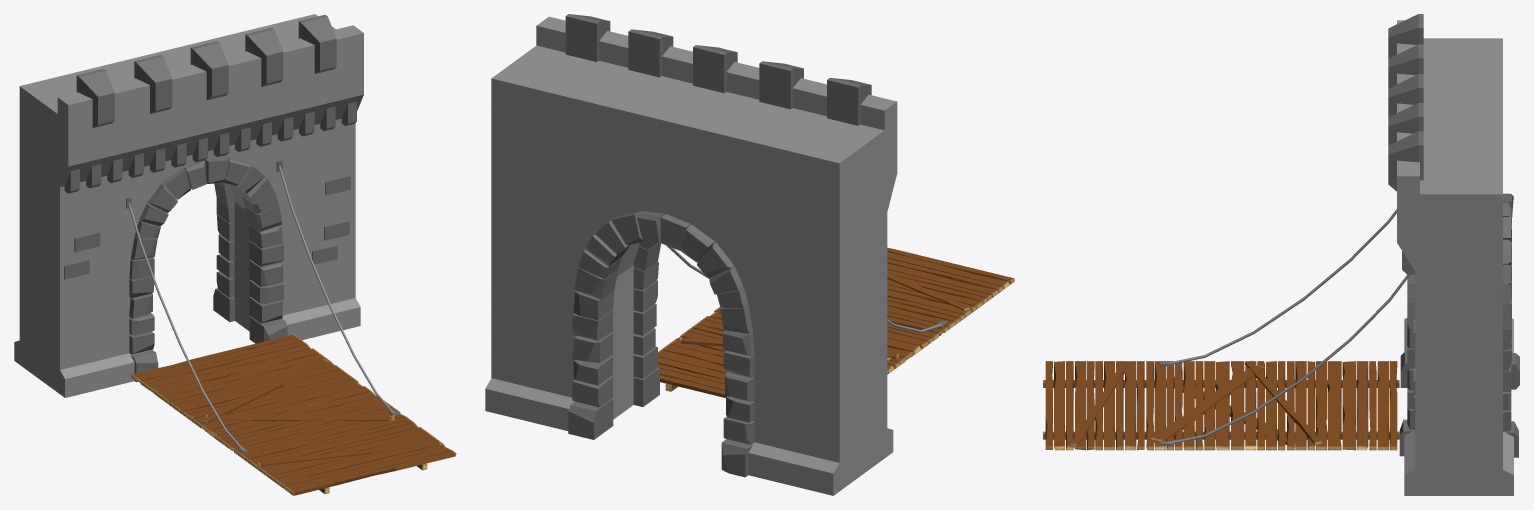
The model's file is kit-drawbridge.glb.
3 views of the same model, side by side, from view 1: azimuth 30°, elevation 25°; view 2: azimuth 150°, elevation 25°; view 3: azimuth 270°, elevation 25° (orthographic). The views are drawn at different scales.
Visible parts, largest first — view 1: Cube.070; view 2: Cube.070; view 3: Cube.070.
Boxes of the visible parts, bbox=[...] form: Cube.070: bbox=[14, 14, 456, 495]; Cube.070: bbox=[485, 14, 1014, 495]; Cube.070: bbox=[1043, 14, 1519, 495].
Bounding box in the file's own units: 7.16 × 7.2 × 9.23.
1 material, 1 textured.
